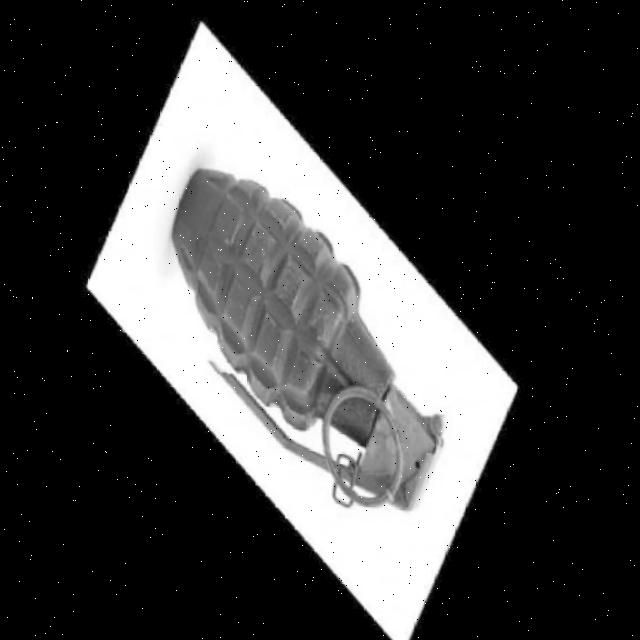grenade: (139, 98, 475, 562)
